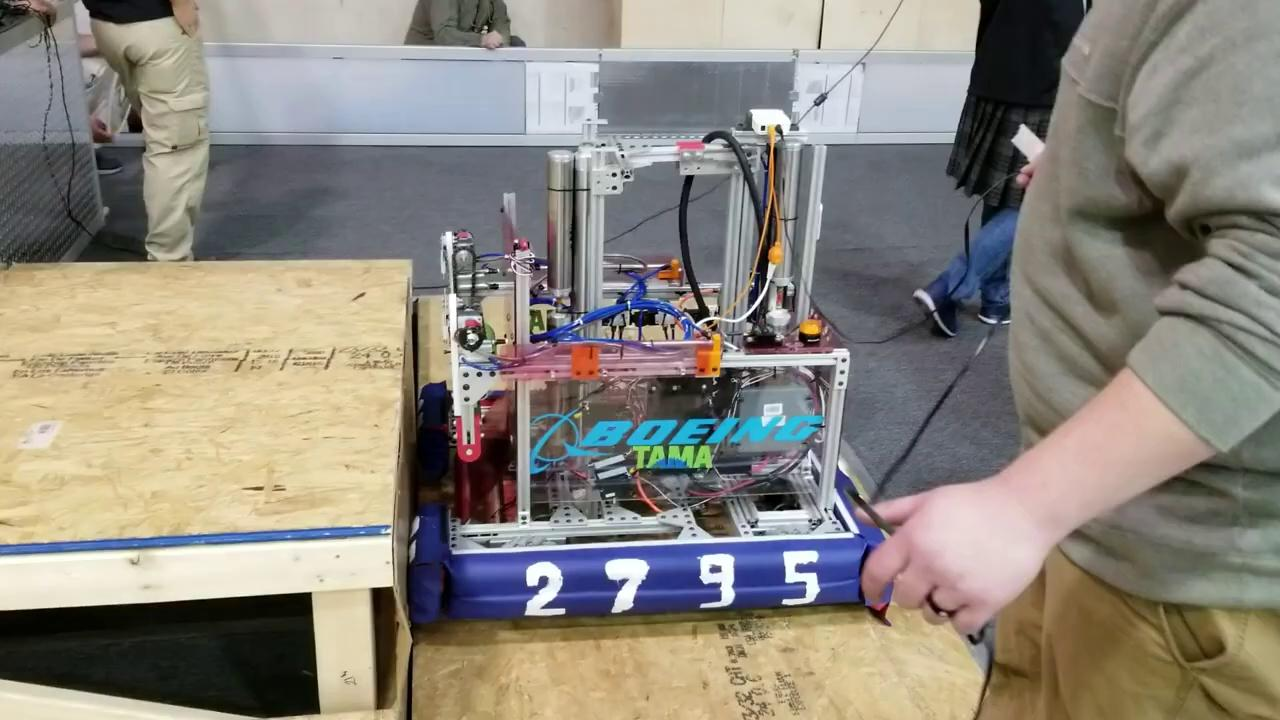robot: (406, 109, 891, 629)
